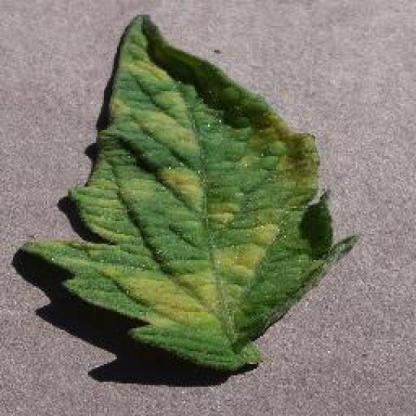Tomato_Leaf_Mold: (24, 12, 351, 368)
